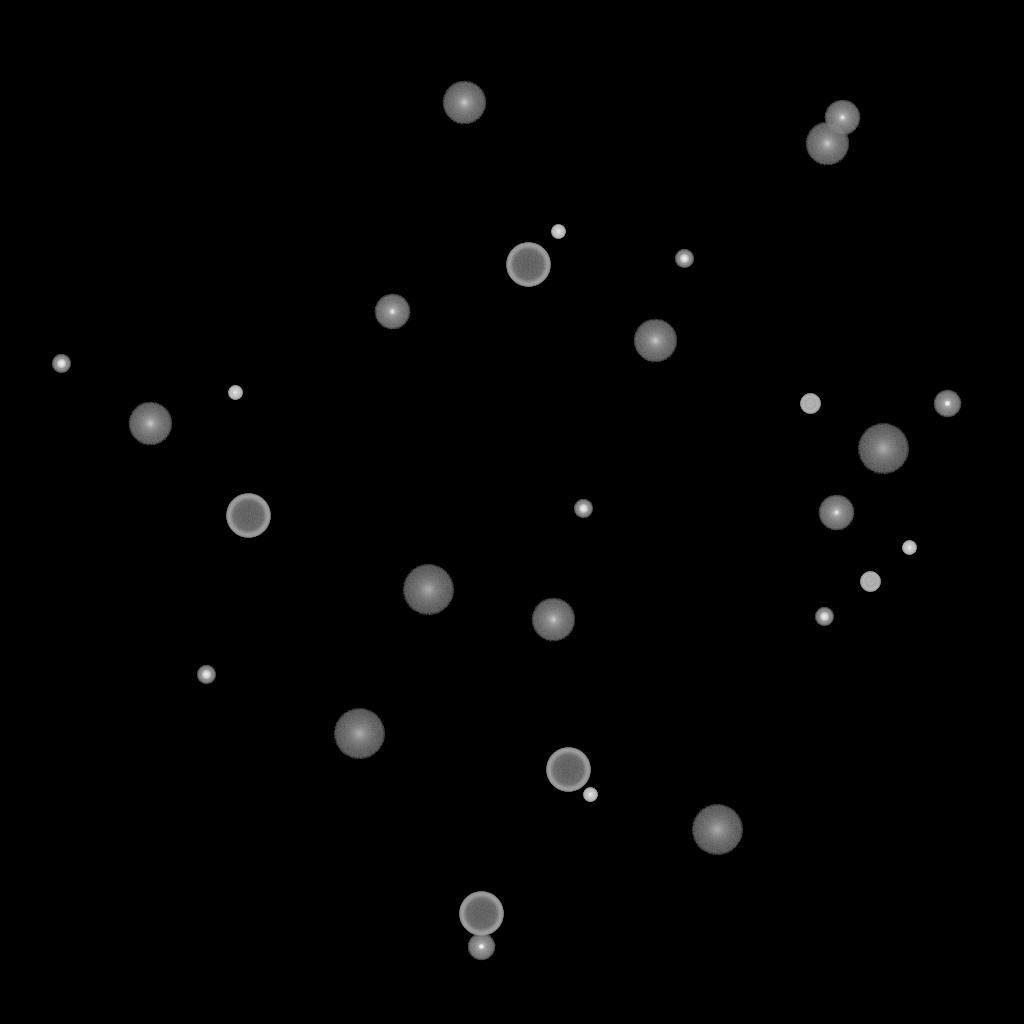depth:-10: (467, 933, 495, 961), (933, 390, 961, 418)
depth:-20: (52, 355, 70, 373), (574, 500, 592, 518), (197, 666, 215, 684), (815, 608, 833, 626), (675, 250, 693, 268)
depth:-30: (228, 386, 242, 400), (902, 541, 916, 555), (583, 788, 597, 802), (551, 225, 565, 239)
depth:-40: (800, 394, 820, 414), (860, 572, 880, 592)
depth:-70: (459, 892, 503, 936), (546, 748, 590, 792), (506, 243, 550, 287), (226, 494, 270, 538)
depth:0: (824, 100, 860, 136), (818, 495, 854, 531), (374, 294, 410, 330)
depth:10: (633, 319, 677, 363), (805, 122, 849, 166), (128, 402, 172, 446), (531, 598, 575, 642), (442, 81, 486, 125)
depth:20: (691, 805, 743, 855), (333, 709, 385, 759), (857, 424, 909, 474), (402, 565, 454, 615)
